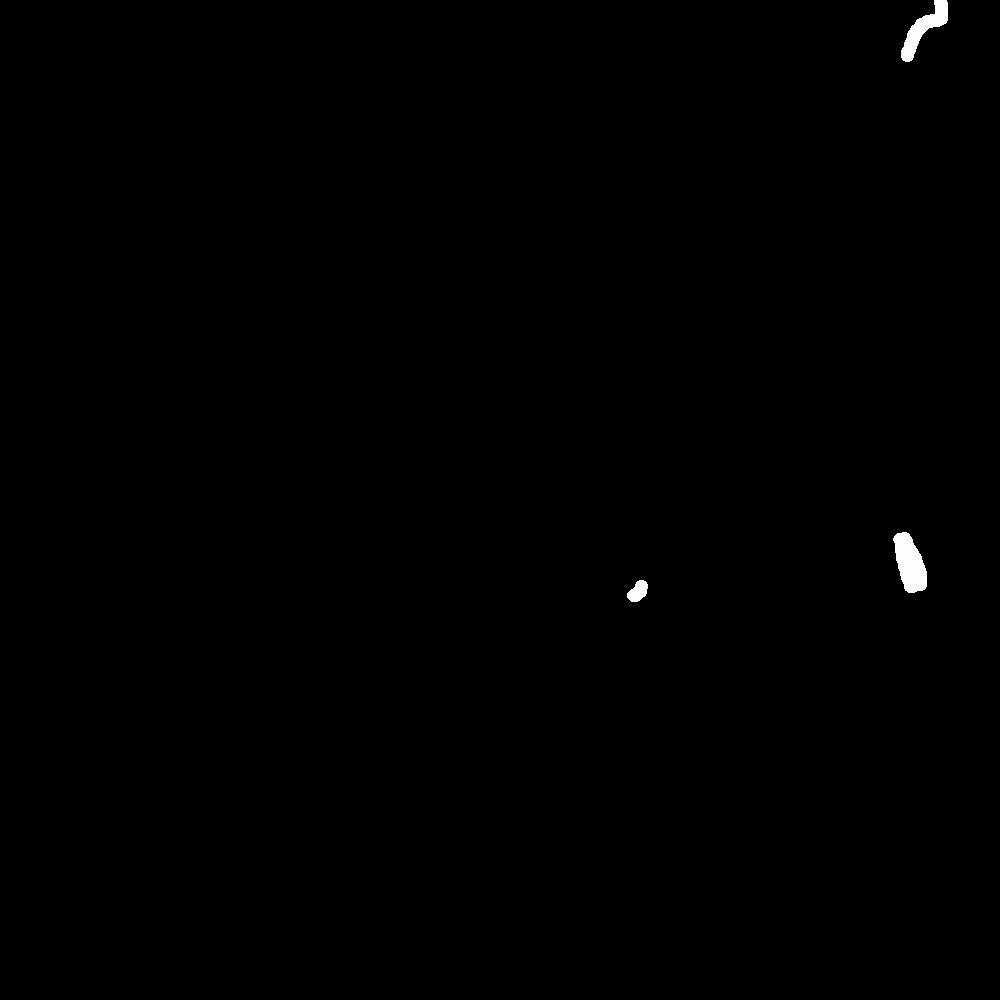legal: (894, 528, 920, 585), (211, 430, 229, 446)
